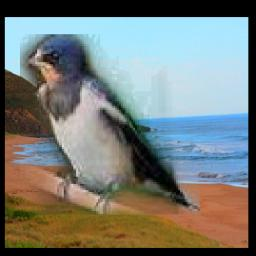Swallow: (21, 34, 201, 215)
